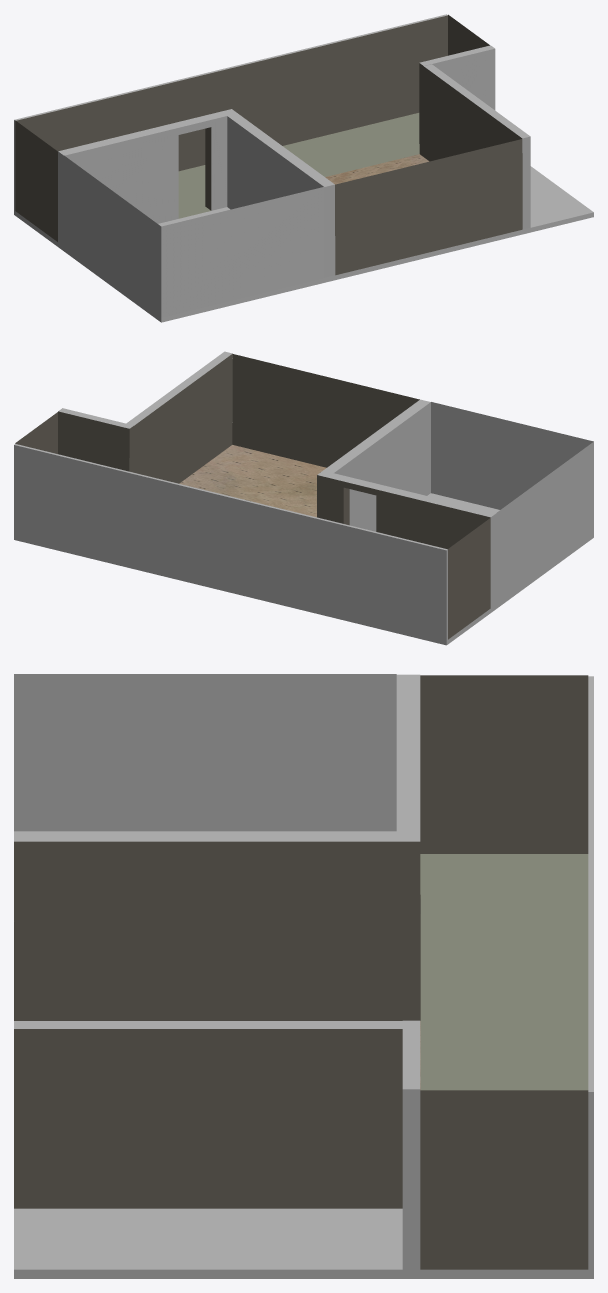
File: NewHouse2.fbx
3 views of the same model, one above another, from view 1: azimuth 30°, elevation 25°; view 2: azimuth 150°, elevation 25°; view 3: azimuth 270°, elevation 25° (orthographic). The views are drawn at different scales.
Parts seen in each view (by area): view 1: pCube1; view 2: pCube1; view 3: pCube1.
Part boxes in pixels (<box>): pCube1: <box>14,14,593,322</box>; pCube1: <box>14,351,593,645</box>; pCube1: <box>14,674,593,1278</box>.
Size of the model in its own units: 29.15 by 6.2 by 17.19.
Materials: 4 (1 with a texture image).
